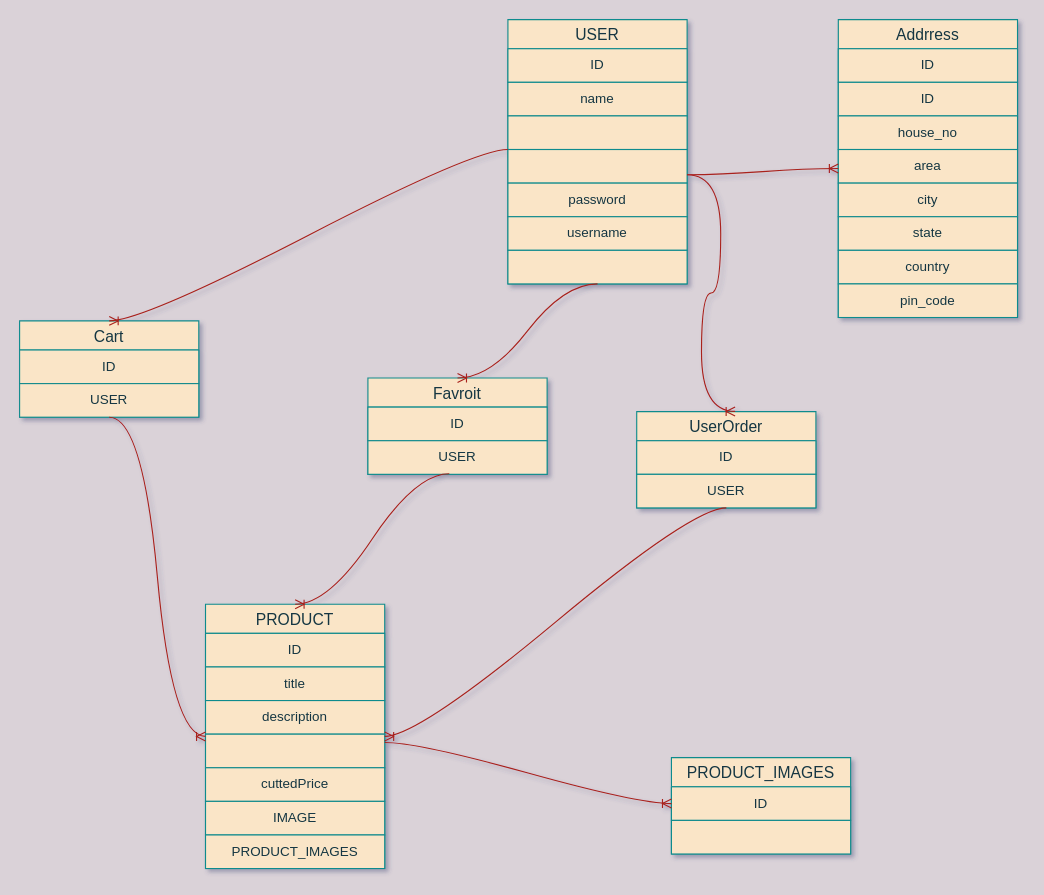
The diagram is 1044 pixels wide and 895 high, and some of its shapes have lost their labels. Each missing label, with the centre of its shape:
"email" belongs at point (597, 132).
"image_url" belongs at point (760, 836).
"phone" belongs at point (597, 165).
"price" belongs at point (294, 750).
"ROLE" belongs at point (597, 266).
